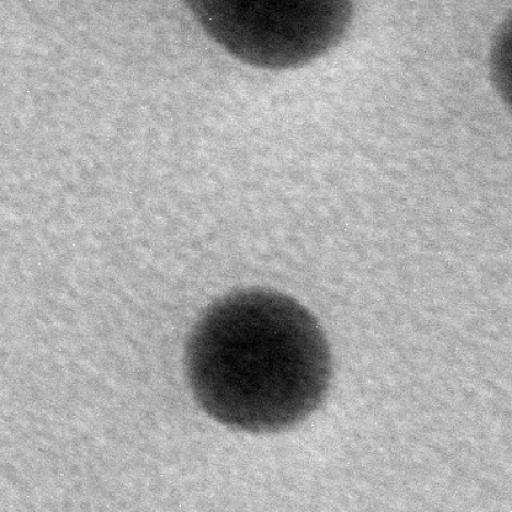Nanoparticles: (180, 282, 333, 437), (181, 0, 354, 77), (483, 14, 512, 112)
